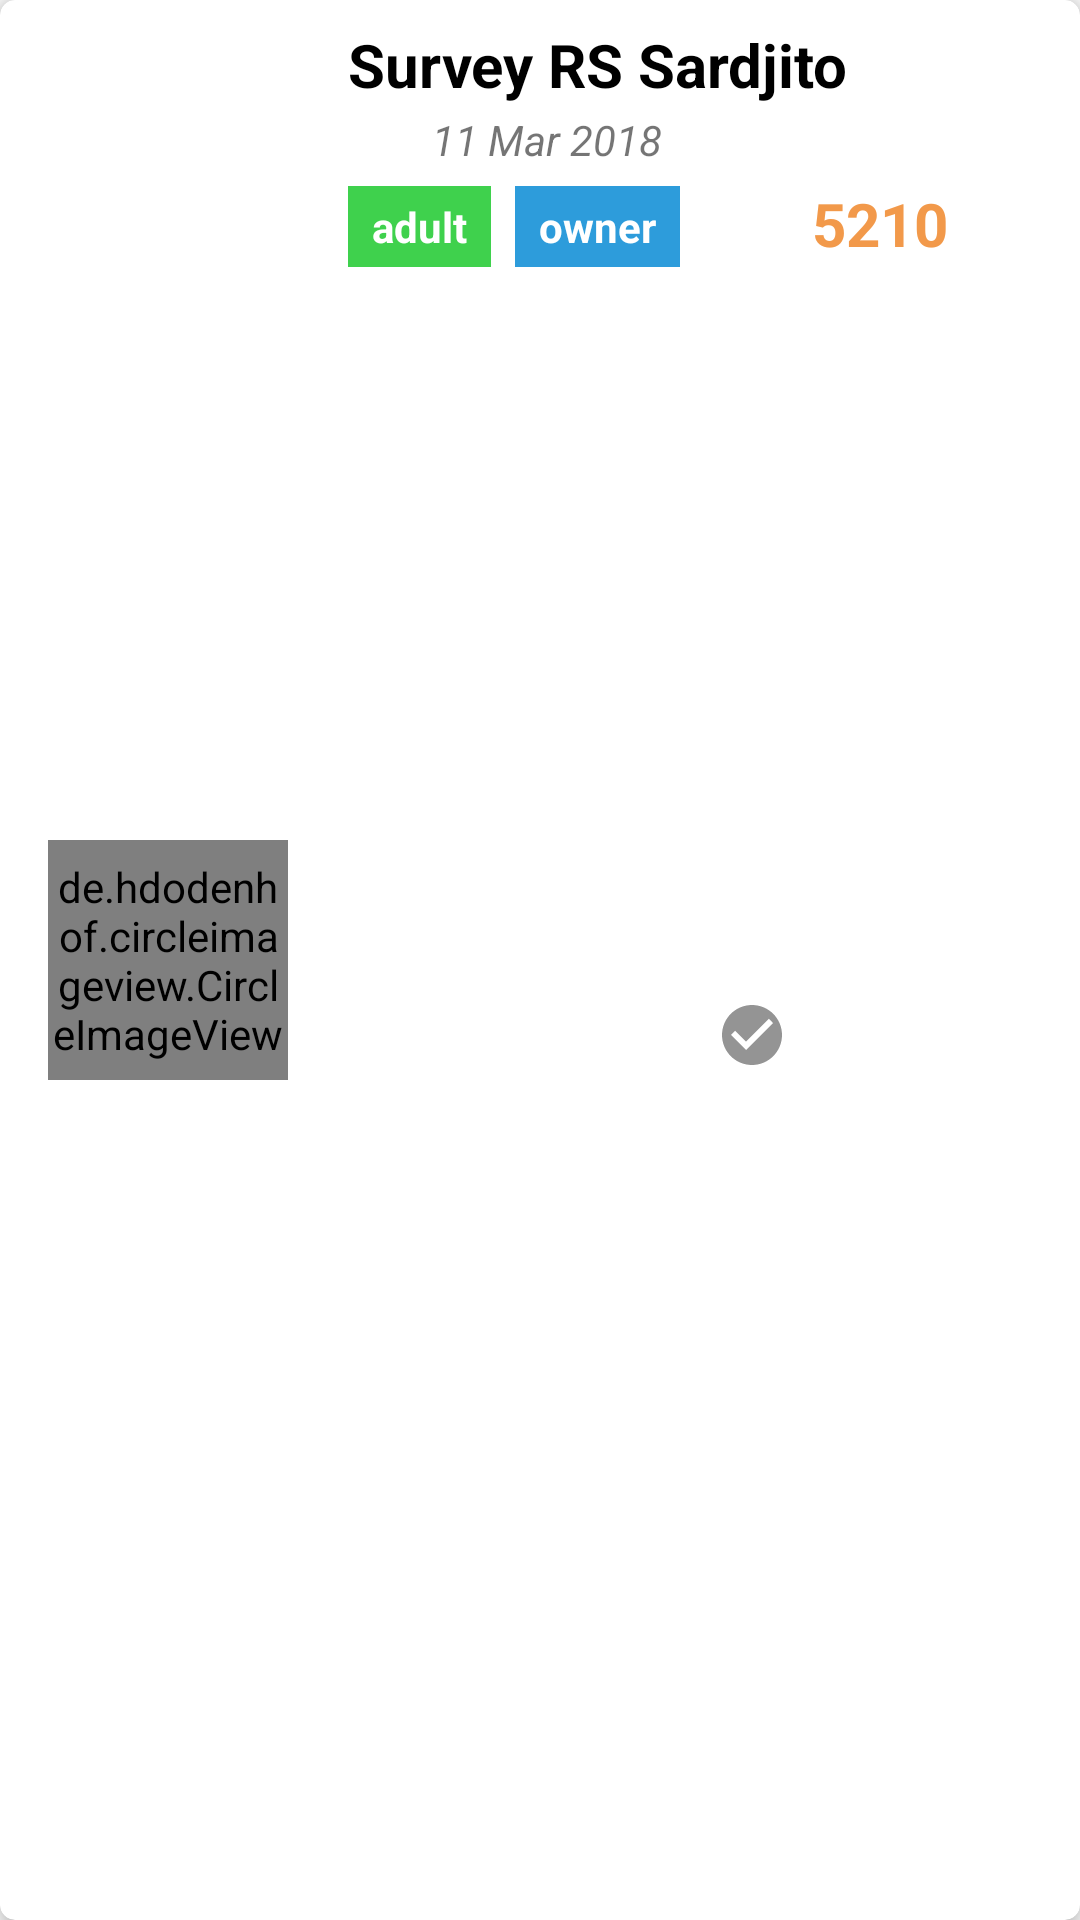

Where to tap for icons on this 1080 x 1920 app screen, as [x,y]:
check circle: [752,1035]
